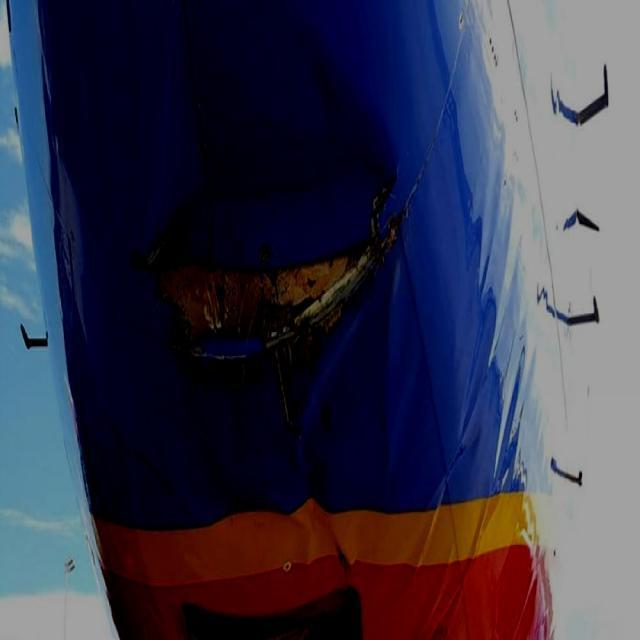crack: (145, 148, 404, 373)
